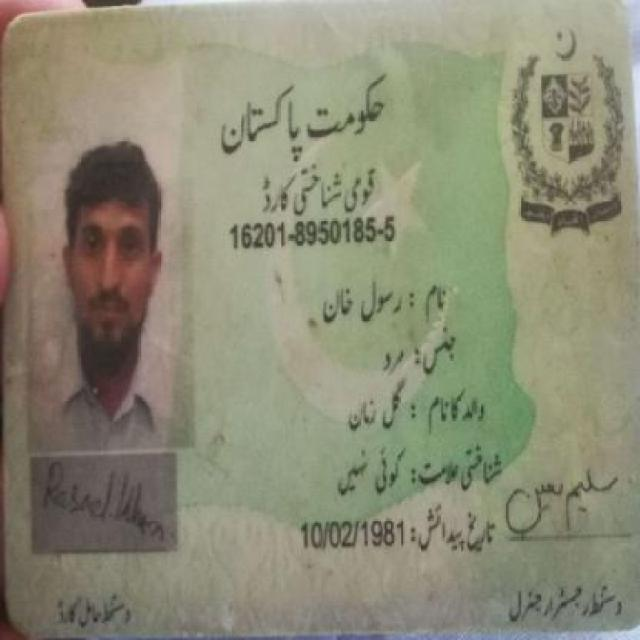Front: (9, 17, 629, 626)
